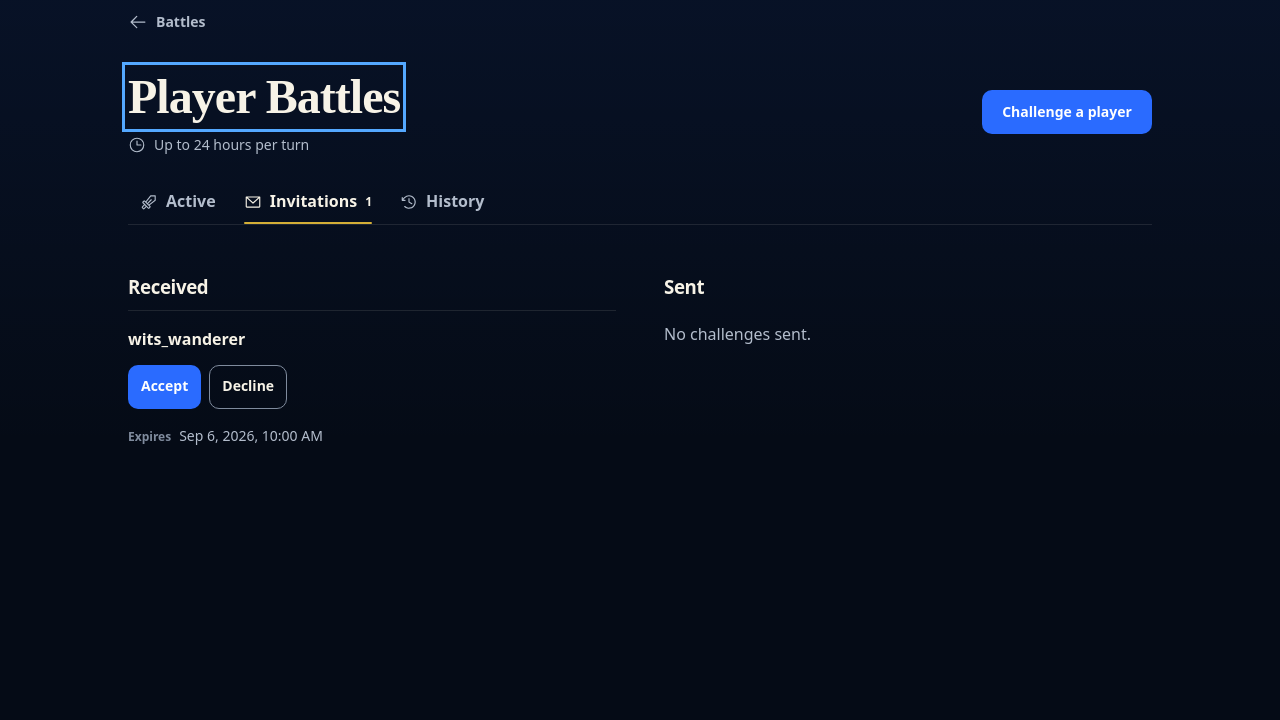
it: player battle hub recovery › refreshes a stale declined challenge without claiming a successful decline
Click the button with aria-label "Decline challenge from wits_wanderer" at (248, 387), box [209,365,287,409]
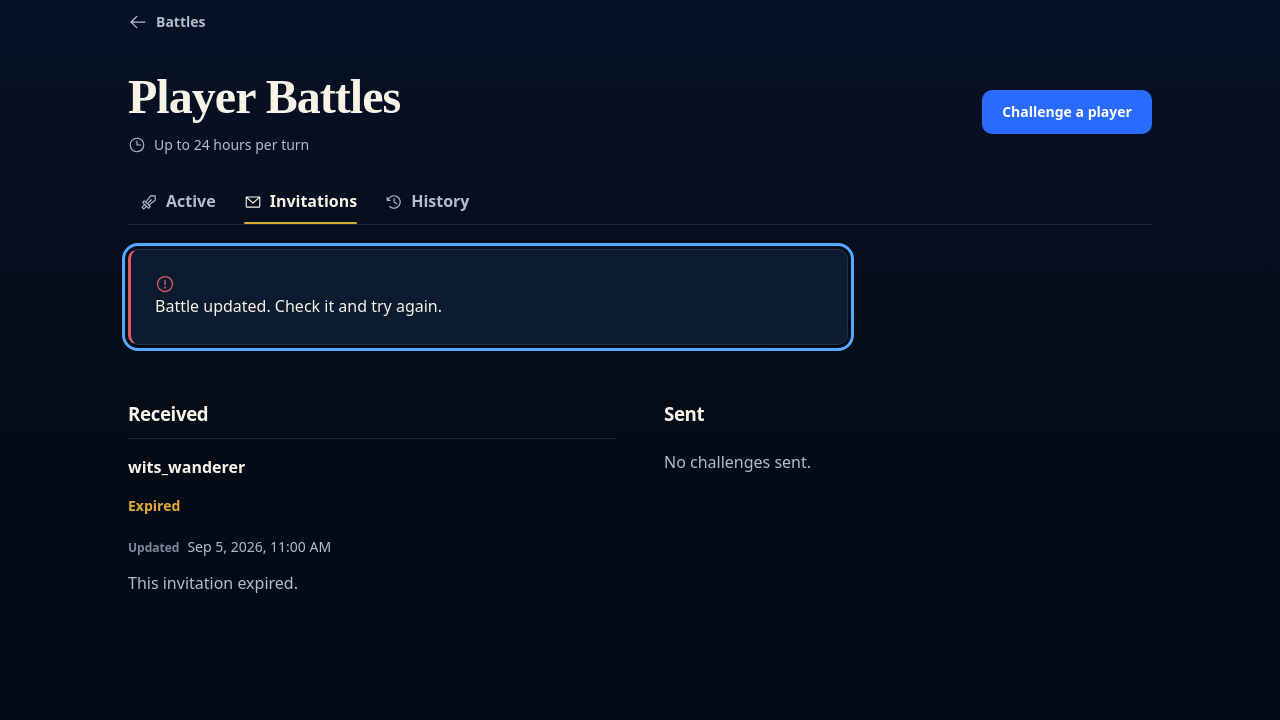
Check: the message reads "Battle updated. Check it and try again.", box [155,295,442,317]
